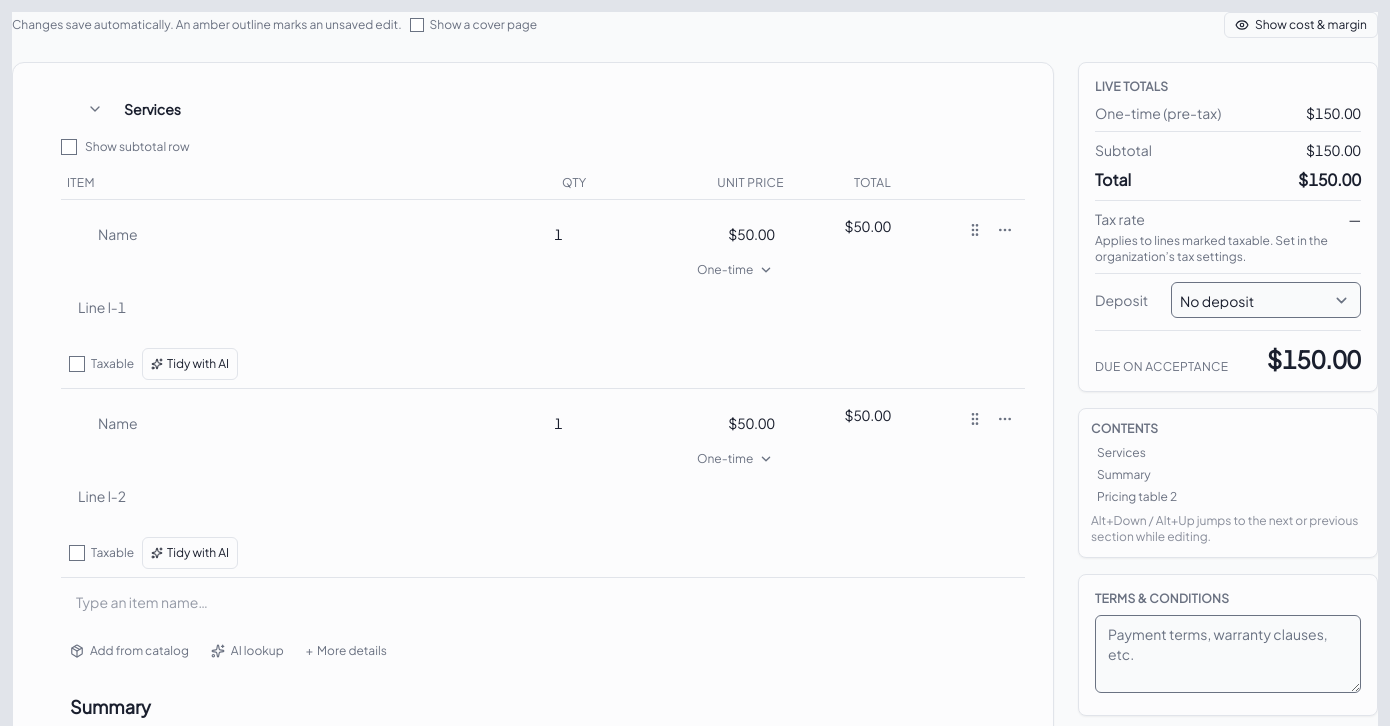
Test: QuoteEditor — collapsible pricing blocks › collapsing hides the lines (inert body) and shows label + line count + subtotal
This screenshot has width=1390, height=726.
Click the button with test id "quote-block-collapse-blk-1": (95, 109) top-left (83, 97), bottom-right (107, 121)
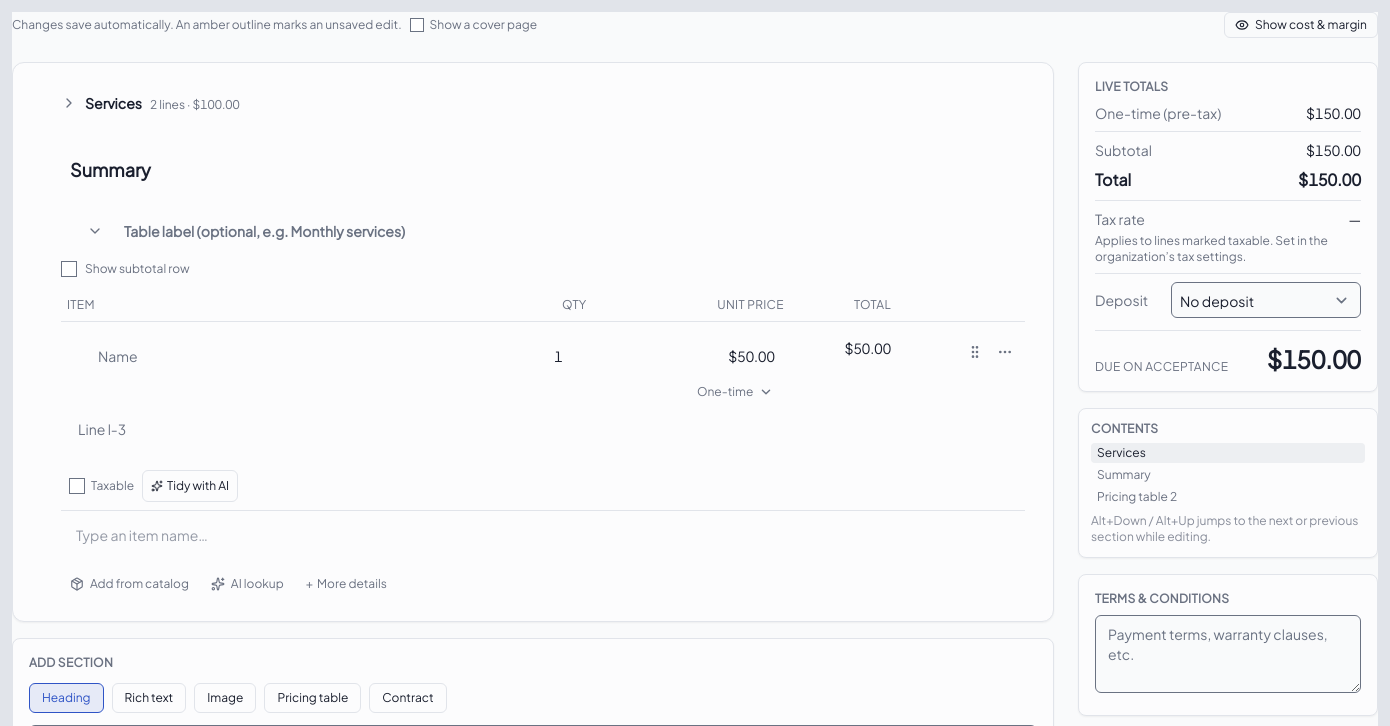
Result: the button with test id "quote-block-collapse-blk-1" is collapsed
Result: the element with test id "quote-block-collapsed-summary-blk-1" shows "Services" at top-left (85, 94), bottom-right (142, 112)
Result: the element with test id "quote-block-collapsed-summary-blk-1" shows "2 lines · $100.00" at top-left (150, 97), bottom-right (240, 112)
Note: Expanding restores the body.
Click the button with test id "quote-block-collapse-blk-1": (113, 103) top-left (61, 91), bottom-right (1025, 115)
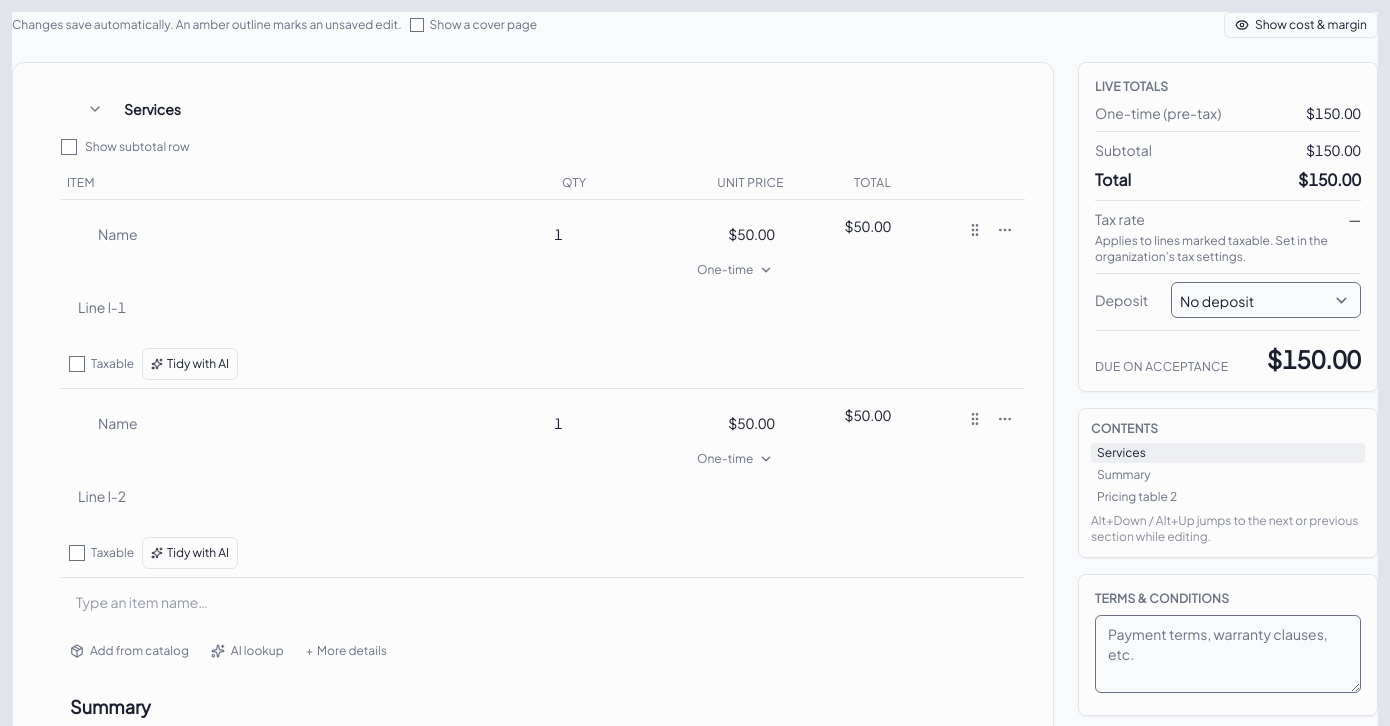
Result: the button with test id "quote-block-collapse-blk-1" is expanded at top-left (83, 97), bottom-right (107, 121)
